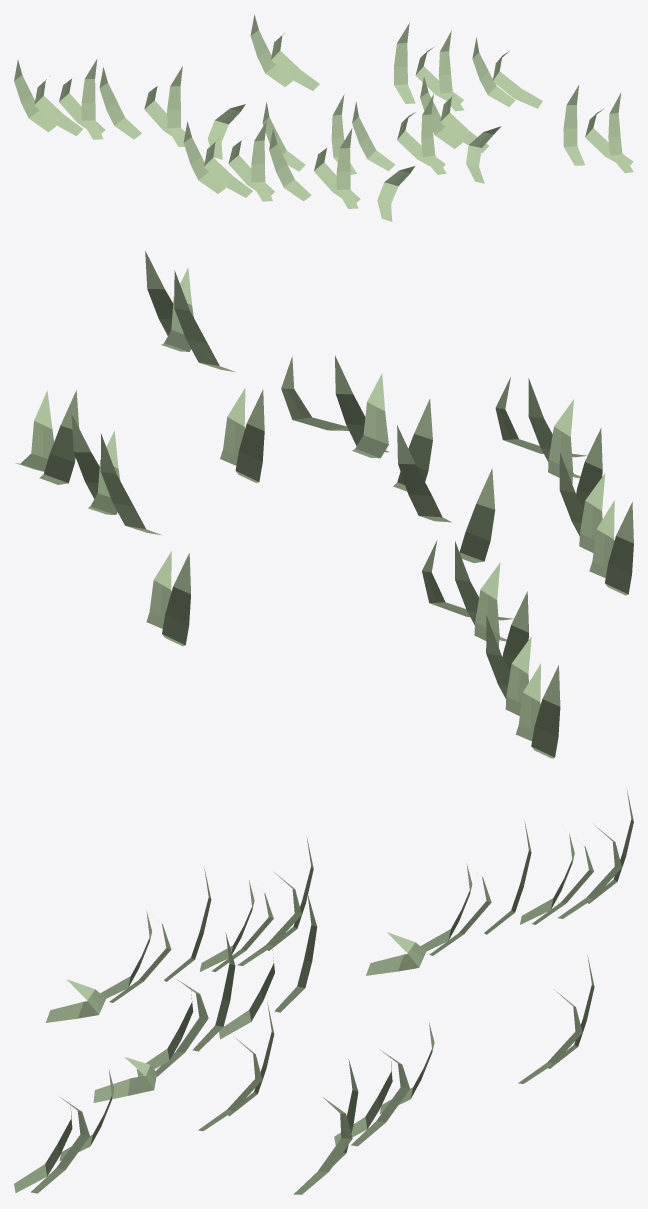
The model's file is ER_Asset_Grass_half.fbx.
3 renders of one model, top to bottom at view 1: azimuth 30°, elevation 25°; view 2: azimuth 150°, elevation 25°; view 3: azimuth 270°, elevation 25°, orthographic. The views are drawn at different scales.
Visible parts, largest first — view 1: polySurface6622; view 2: polySurface6622; view 3: polySurface6622.
Part boxes in pixels (left/top/right/bottom): polySurface6622: left=14, top=14, right=633, bottom=221; polySurface6622: left=15, top=250, right=633, bottom=758; polySurface6622: left=14, top=788, right=633, bottom=1194.
Bounding box in the file's own units: 3 × 0.5004 × 2.51.
